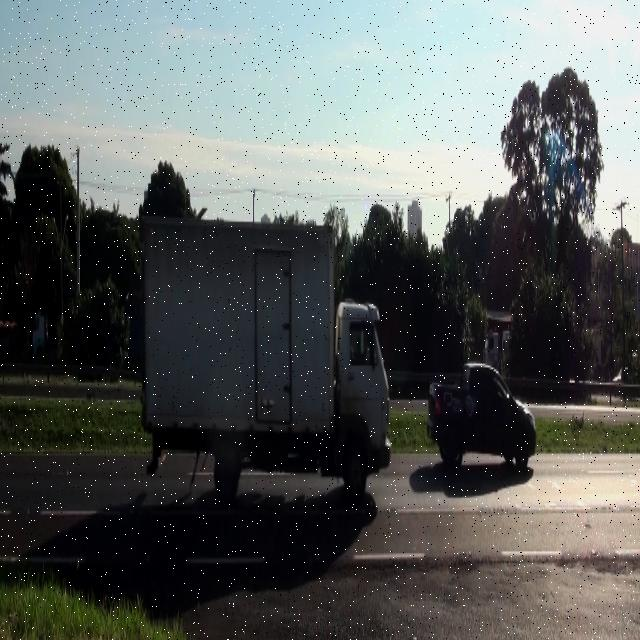-axle: (341, 438, 368, 505), (213, 444, 240, 504)
